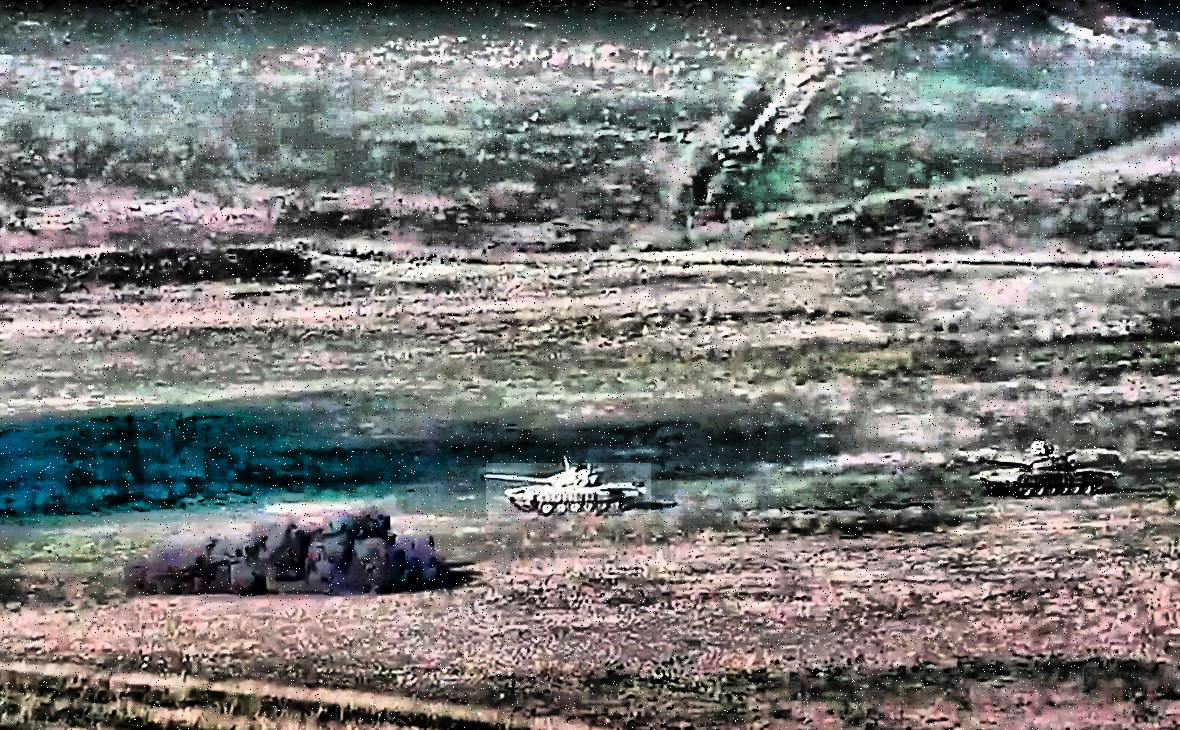military-vehicle: (486, 464, 651, 515), (981, 445, 1118, 499)
